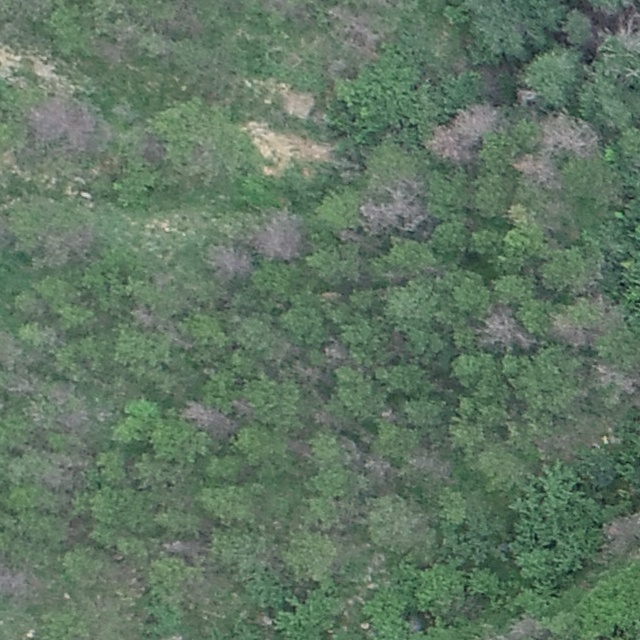unhealthy: (512, 110, 599, 191), (358, 175, 430, 242), (424, 100, 499, 164), (326, 7, 380, 63), (24, 386, 88, 432), (252, 208, 306, 262), (476, 303, 533, 352), (178, 400, 234, 440), (45, 226, 97, 269), (596, 510, 640, 560), (68, 111, 111, 161), (201, 243, 256, 282), (131, 311, 190, 347), (28, 96, 66, 141), (595, 362, 640, 400), (544, 312, 589, 348), (408, 450, 455, 484), (0, 563, 32, 611), (163, 538, 213, 563), (364, 456, 395, 488), (508, 612, 539, 640), (319, 338, 349, 366), (39, 469, 71, 493)
